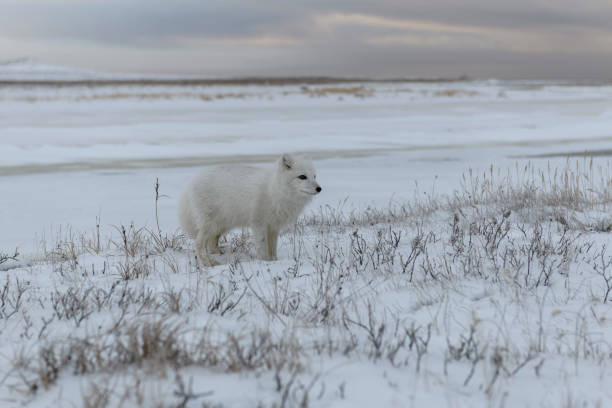arcticfox: (289, 160, 316, 202)
